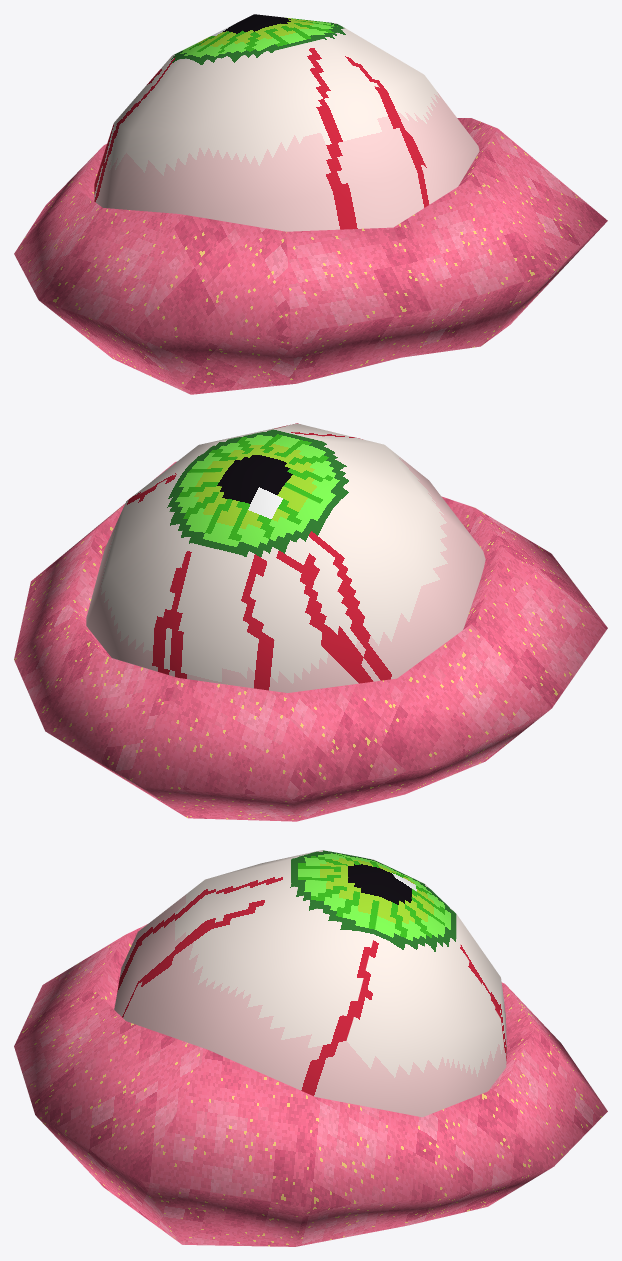
File: s_eyeball.glb
3 renders of one model, top to bottom at view 1: azimuth 30°, elevation 25°; view 2: azimuth 150°, elevation 25°; view 3: azimuth 270°, elevation 25°, orthographic. The views are drawn at different scales.
Visible parts, largest first — view 1: eyeball_gut_flesh_pulse, eyeball_gut_eye; view 2: eyeball_gut_flesh_pulse, eyeball_gut_eye; view 3: eyeball_gut_flesh_pulse, eyeball_gut_eye.
Part boxes in pixels (x1,y1,x2,y2): eyeball_gut_flesh_pulse: [14, 118, 607, 394]; eyeball_gut_eye: [94, 14, 479, 231]; eyeball_gut_flesh_pulse: [14, 461, 607, 821]; eyeball_gut_eye: [86, 423, 485, 692]; eyeball_gut_flesh_pulse: [14, 924, 607, 1246]; eyeball_gut_eye: [114, 850, 506, 1117].
Size of what is drawn, in the model's own units: 0.5641 by 0.3121 by 0.5494.
Materials: 2 (2 with a texture image).
